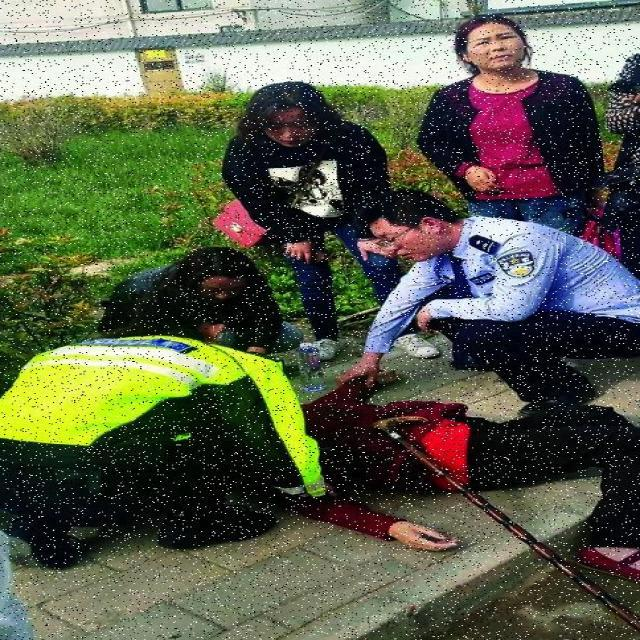fall: (271, 386, 639, 581)
